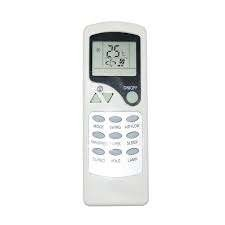remote control: (81, 21, 154, 210)
